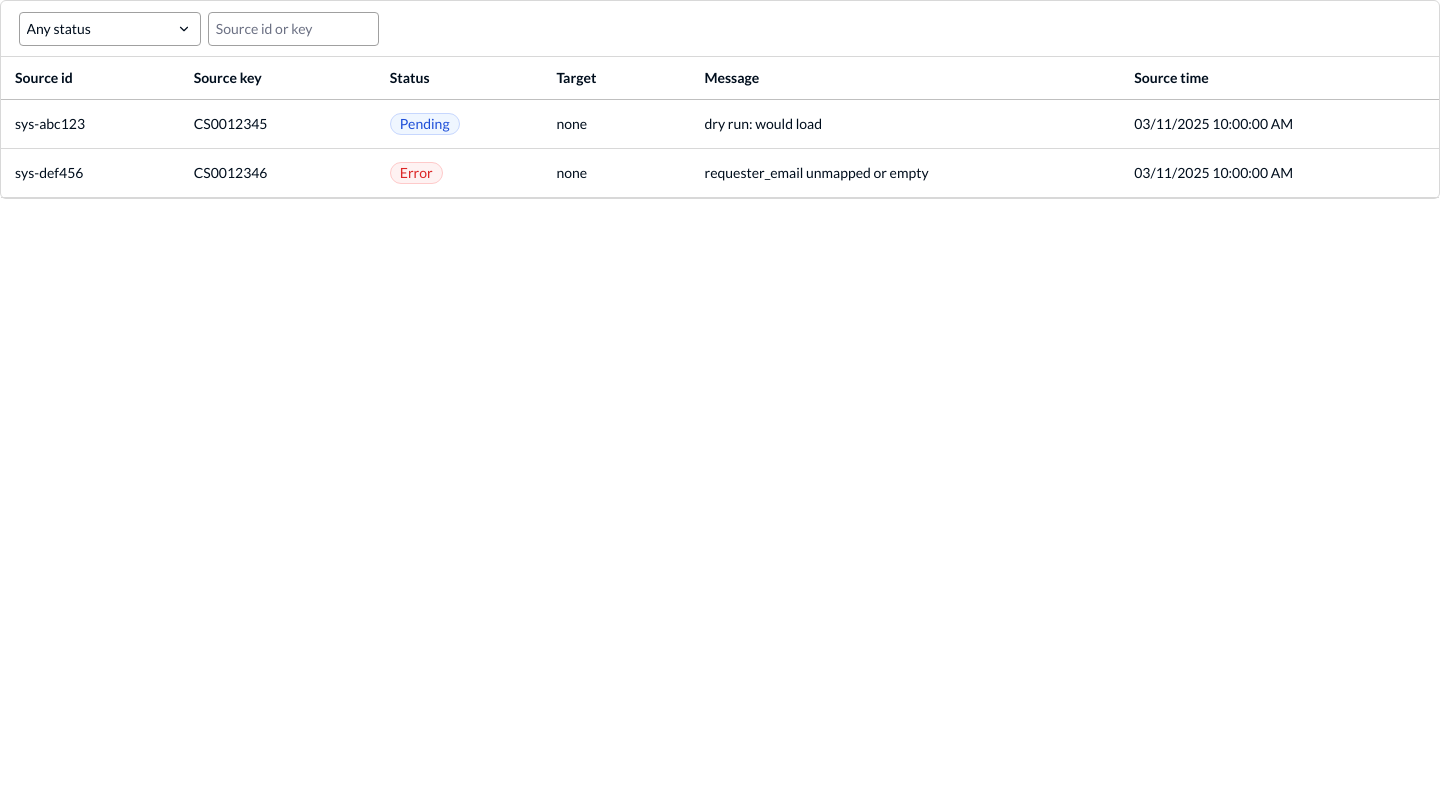
Scenario: RecordsTab › lists the records, sends the status filter and the search to the API, and opens the record drawer
Expected: the text "CS0012345" is shown, [180,99,376,148]
Select "Error" in the dropdown named "Record status": coordinates (110, 28) [18,12,201,46]
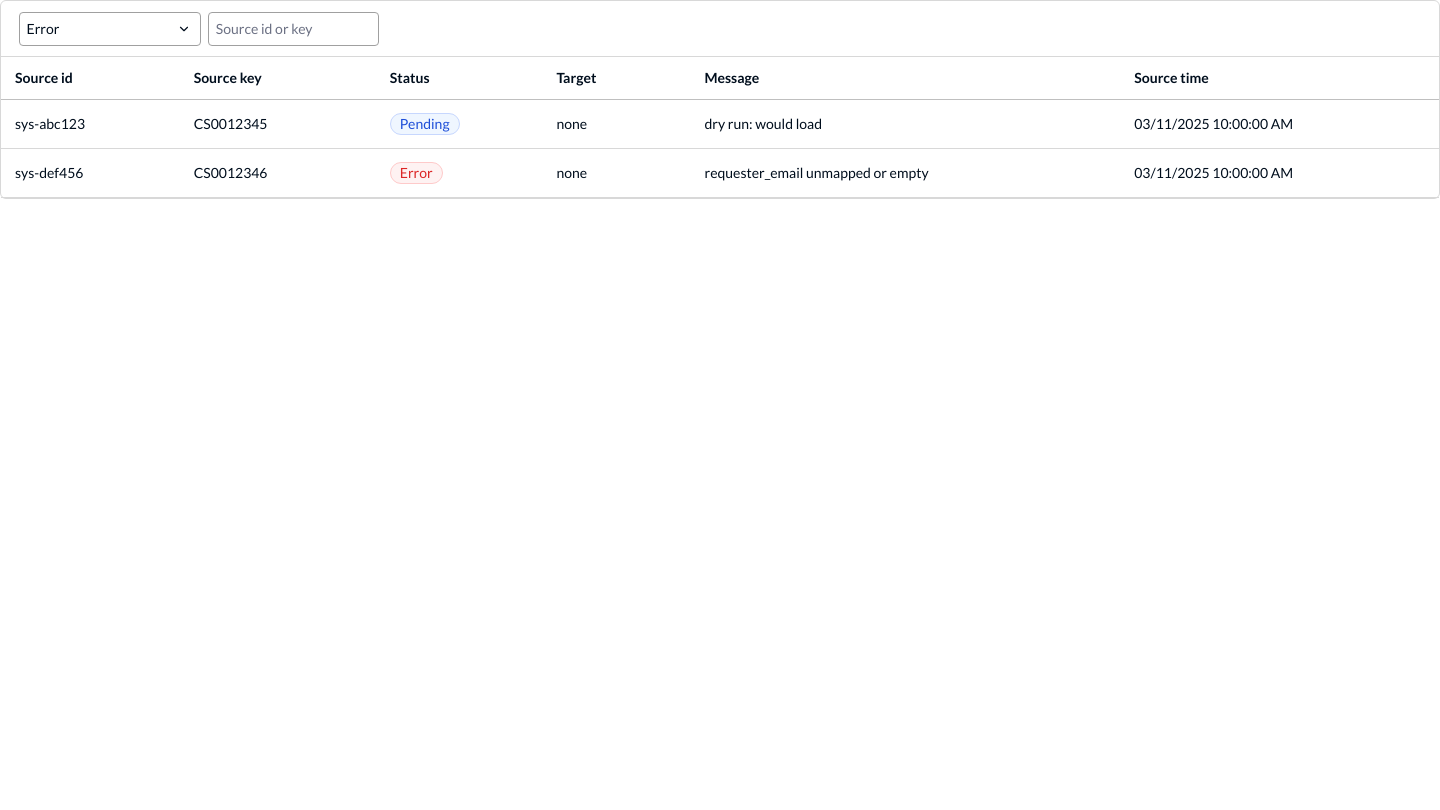
In the search field named "Search records": coordinates (293, 28) [208,12,378,46], type "CS0012"
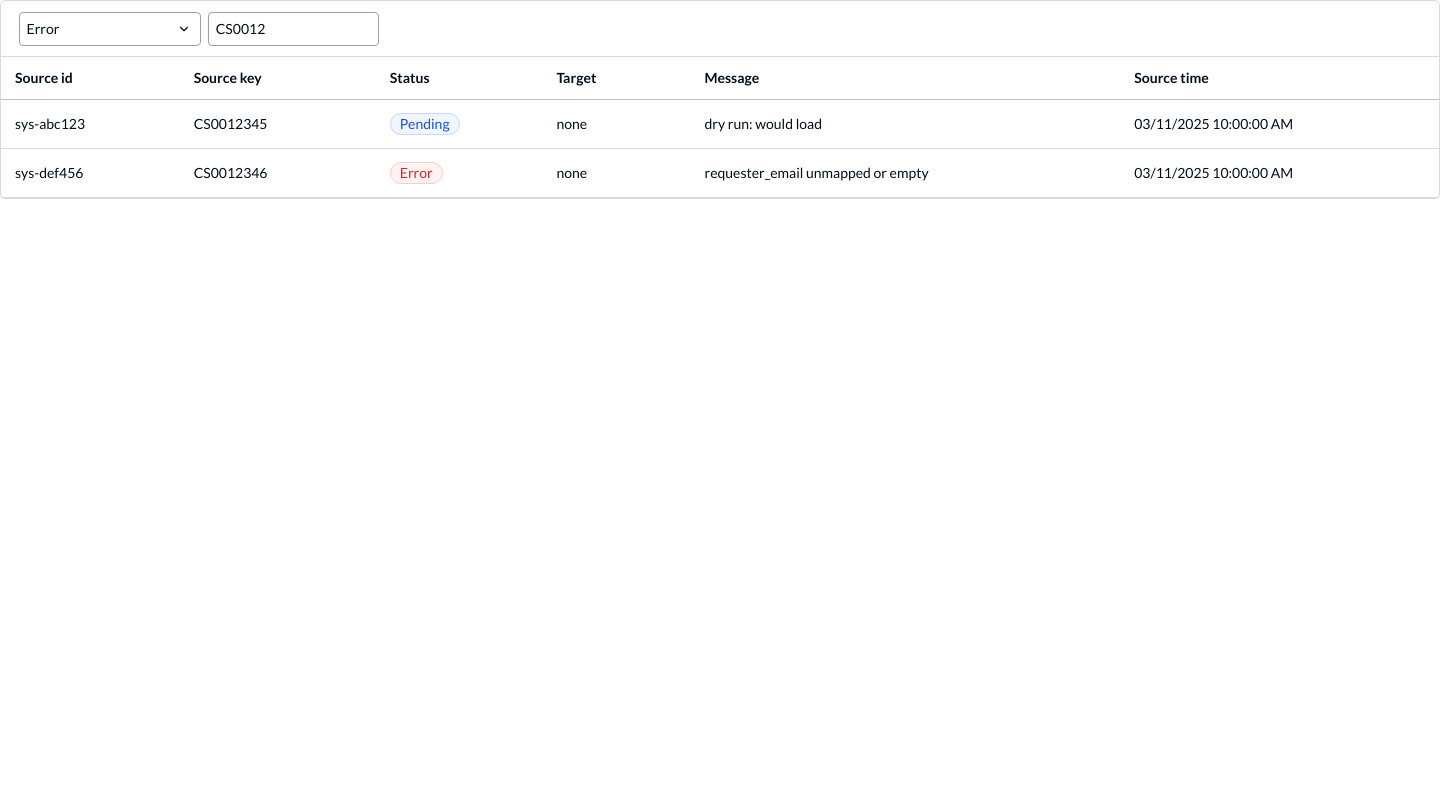
Submit the form named "Search records", box [18,12,378,46]
Click the text "sys-def456": coordinates (49, 172) [1,148,180,197]
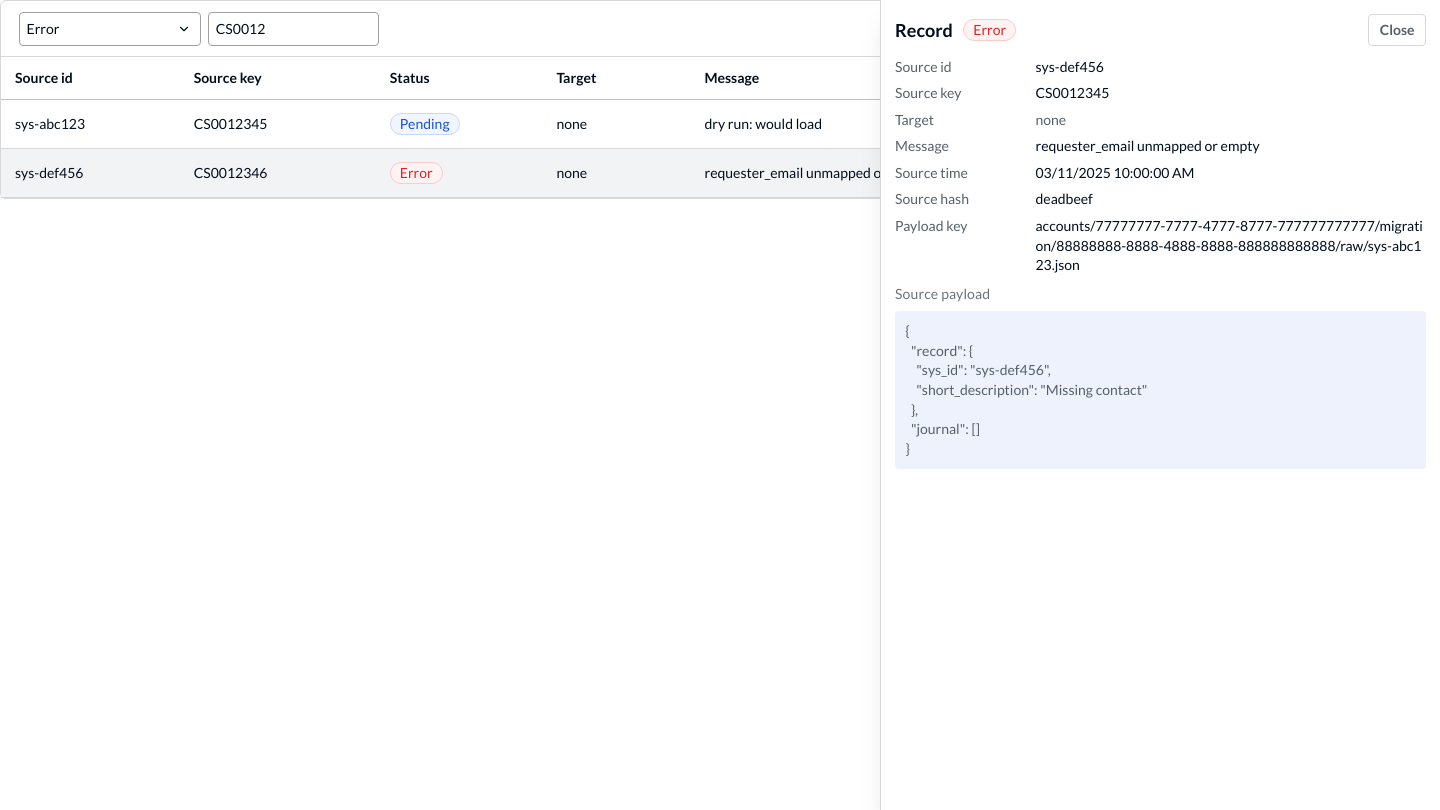
Expected: the text "requester_email unmapped or empty" is shown, [1036,137,1260,154]
Expected: the dialog named "Migration record" shows "\"short_description\": \"Missing contact\"", [906,322,1147,457]
Click the button "Close": coordinates (1397, 30) [1368,14,1426,46]
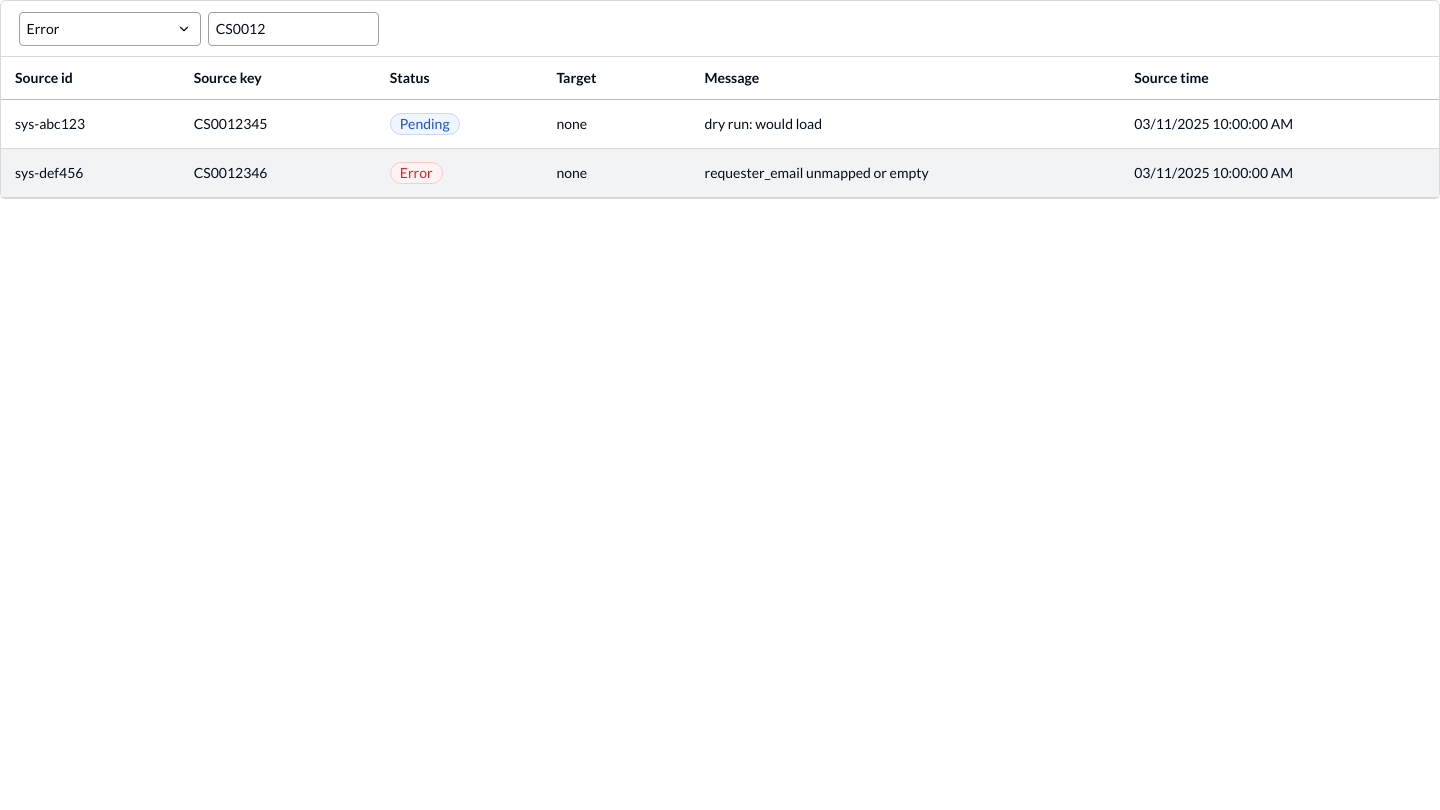
Expected: the dialog is gone
